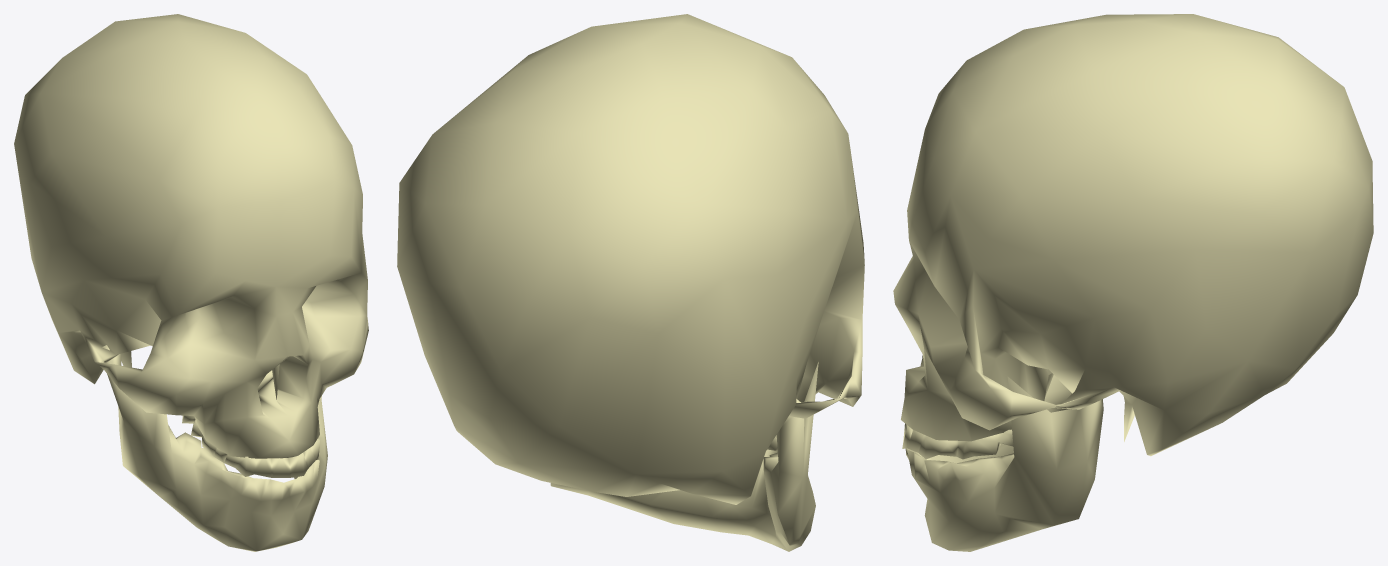
File: Skull_LOD2.fbx
The picture shows the model from 3 angles, left to right: view 1: azimuth 30°, elevation 25°; view 2: azimuth 150°, elevation 25°; view 3: azimuth 270°, elevation 25°; orthographic projection. The views are drawn at different scales.
Visible parts, largest first — view 1: Dientes.002; view 2: Dientes.002; view 3: Dientes.002.
Part boxes in pixels (x1,y1,x2,y2): Dientes.002: [14, 14, 368, 551]; Dientes.002: [397, 14, 864, 551]; Dientes.002: [893, 14, 1373, 551].
Size of the model in its own units: 478 by 730 by 619.
